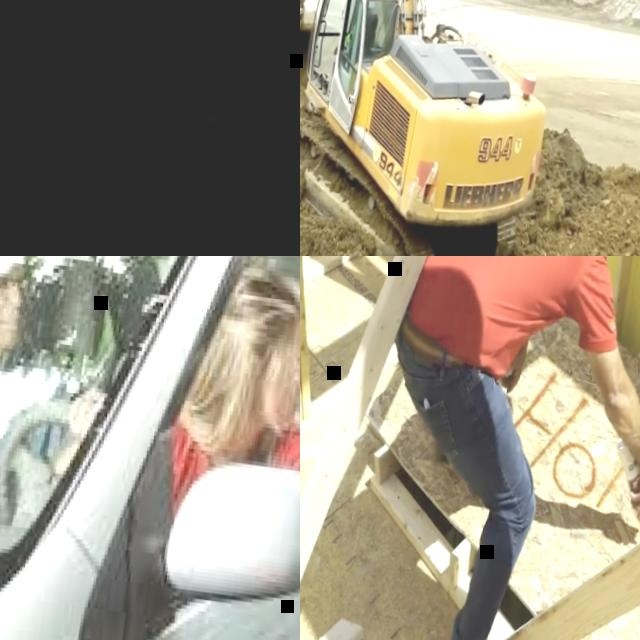NO-Hardhat: (222, 264, 300, 353)
NO-Mask: (251, 377, 300, 432), (0, 308, 29, 351)
NO-Safety Vest: (402, 256, 608, 382)
Person: (345, 256, 640, 640), (56, 256, 300, 525), (0, 256, 85, 522), (342, 7, 364, 67)
Safety Vest: (346, 22, 356, 45)
machinery: (300, 0, 596, 256)
vehicle: (0, 256, 300, 640)
